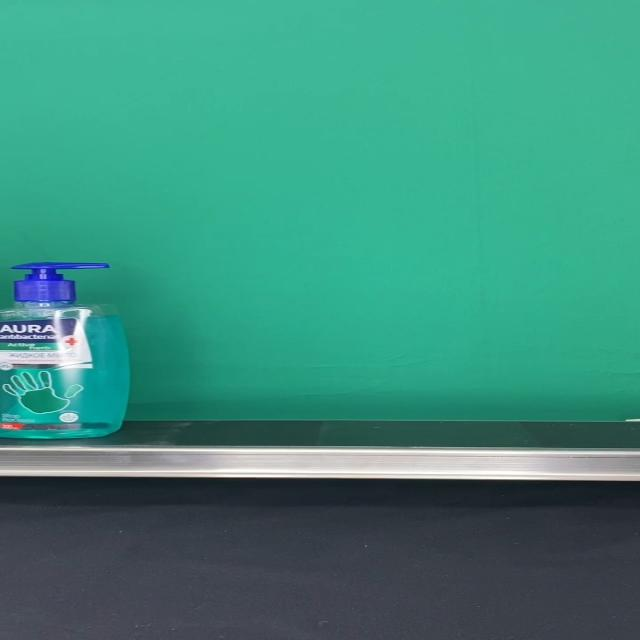Bottle: (0, 262, 130, 438)
Cap: (11, 262, 110, 302)
